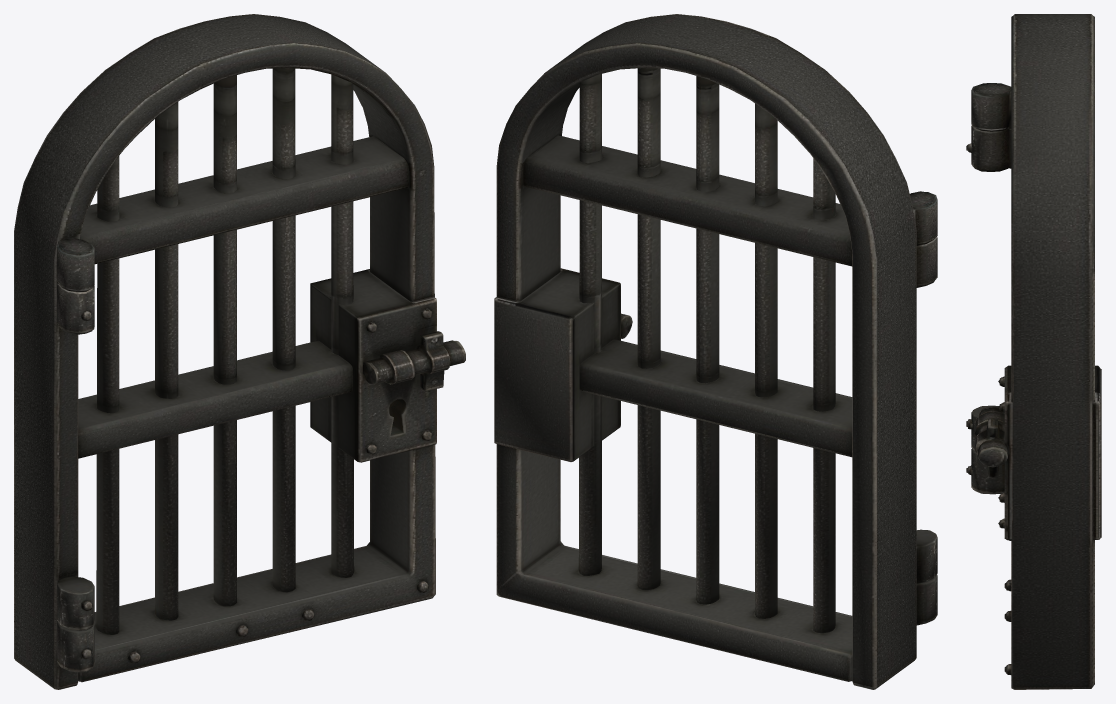
File: PrisonDoor_01.fbx
3 views of the same model, side by side, from view 1: azimuth 30°, elevation 25°; view 2: azimuth 150°, elevation 25°; view 3: azimuth 270°, elevation 25° (orthographic). The views are drawn at different scales.
Parts seen in each view (by area): view 1: PrisonDoor_01; view 2: PrisonDoor_01; view 3: PrisonDoor_01.
Part boxes in pixels (x1,y1,x2,y2): PrisonDoor_01: (14,14,465,689); PrisonDoor_01: (494,14,937,689); PrisonDoor_01: (966,14,1101,689).
Size of the model in its own units: 150 by 214 by 46.2.
